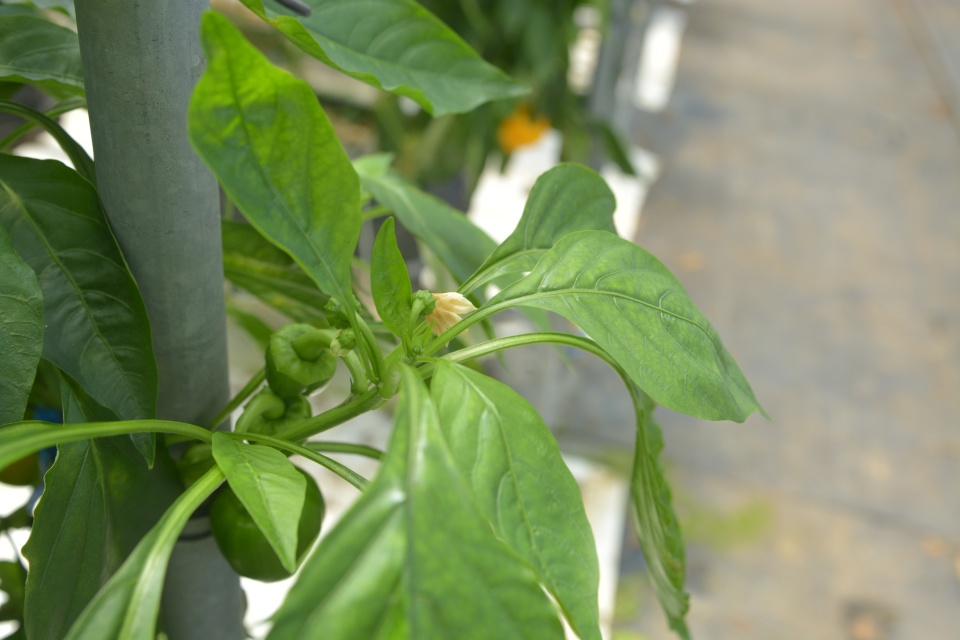flower: (423, 290, 478, 349)
fruit: (208, 462, 327, 584)
immature: (262, 320, 337, 402), (242, 384, 312, 457)
